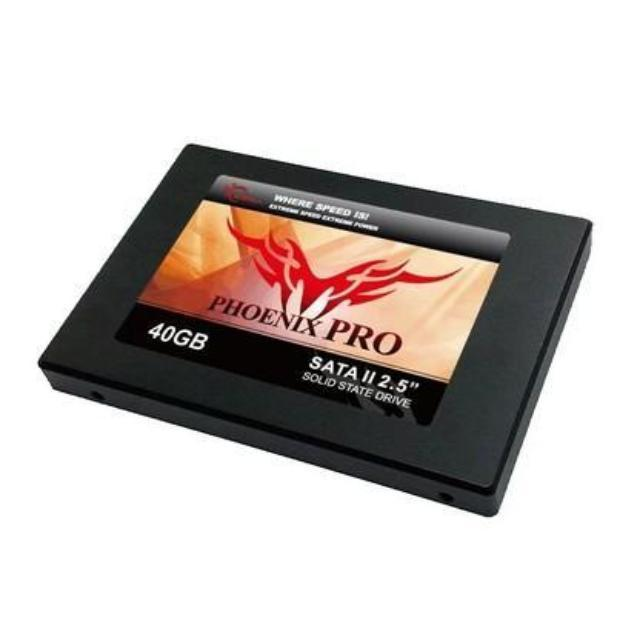DISK: (50, 143, 592, 523)
